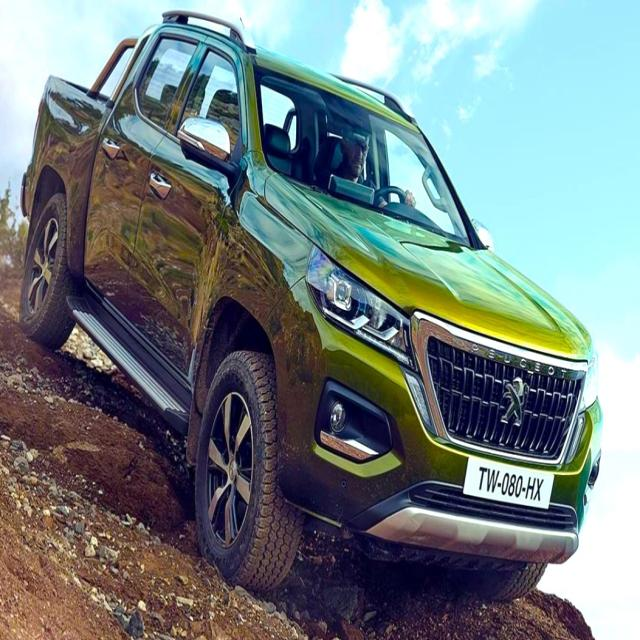Pickup Trucks: (22, 12, 601, 601)
